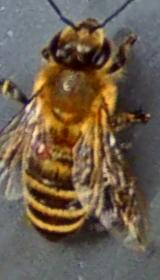varroa_mite: (32, 135, 52, 156)
